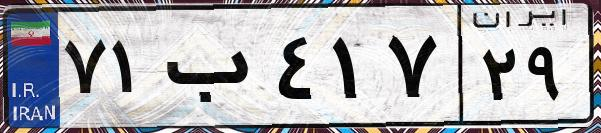1: (330, 28, 385, 110), (110, 28, 158, 98)
2: (475, 38, 525, 113)
4: (270, 28, 330, 110)
7: (385, 28, 445, 110), (57, 26, 110, 100)
9: (525, 38, 570, 115)
ب: (158, 20, 270, 120)
